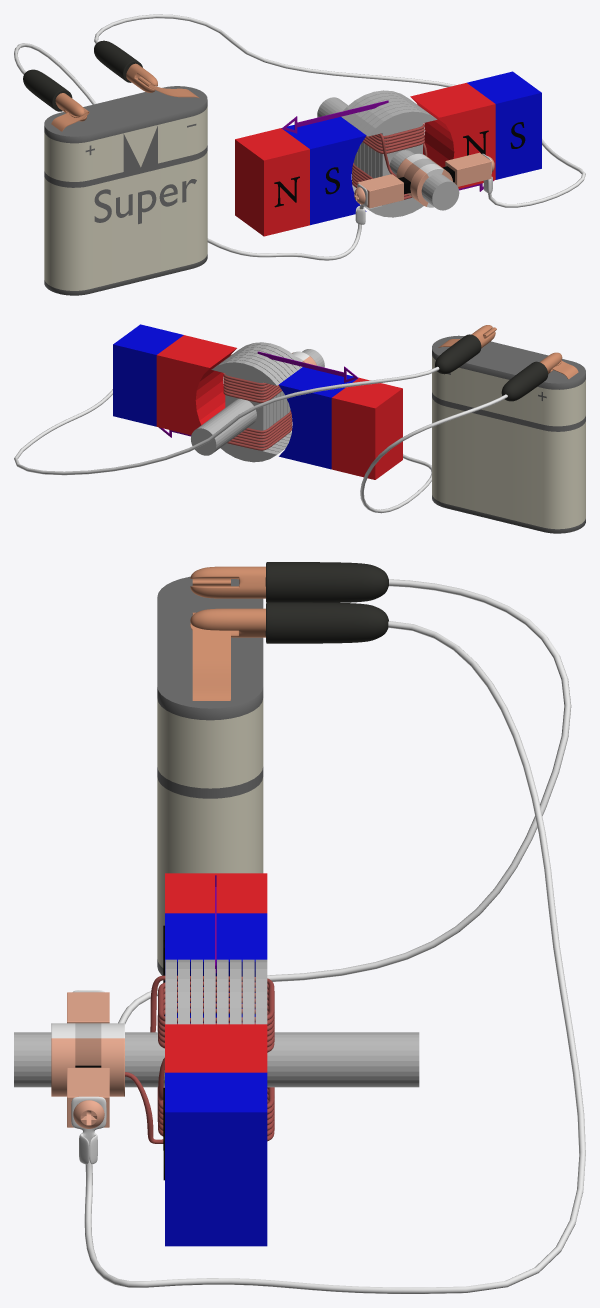
The model's file is Motor.fbx.
3 renders of one model, top to bottom at view 1: azimuth 30°, elevation 25°; view 2: azimuth 150°, elevation 25°; view 3: azimuth 270°, elevation 25°, orthographic. The views are drawn at different scales.
Visible parts, largest first — view 1: battery, magnet1, Cube.001, rootor, juhe.001, klemm.001, klemm, juhe, brushes.002, brushes.001, Plane, brushes; view 2: battery, magnet1, Cube.001, rootor, juhe.001, juhe, klemm.001, klemm; view 3: battery, rootor, Cube.001, juhe.001, magnet1, klemm, klemm.001, juhe, brushes.001, Plane.
Boxes of the visible parts, bbox=[...] form: battery: bbox=[44, 76, 207, 295]; magnet1: bbox=[235, 117, 366, 236]; Cube.001: bbox=[410, 71, 541, 188]; rootor: bbox=[282, 90, 493, 217]; juhe.001: bbox=[94, 14, 585, 207]; klemm.001: bbox=[94, 40, 157, 92]; klemm: bbox=[23, 69, 87, 121]; juhe: bbox=[14, 43, 361, 260]; brushes.002: bbox=[370, 162, 491, 208]; brushes.001: bbox=[357, 152, 491, 208]; Plane: bbox=[355, 153, 492, 224]; brushes: bbox=[354, 156, 494, 204]; battery: bbox=[432, 327, 585, 533]; magnet1: bbox=[279, 367, 402, 479]; Cube.001: bbox=[113, 324, 236, 434]; rootor: bbox=[159, 342, 358, 462]; juhe.001: bbox=[14, 366, 439, 475]; juhe: bbox=[360, 394, 507, 513]; klemm.001: bbox=[435, 325, 495, 374]; klemm: bbox=[501, 352, 562, 401]; battery: bbox=[157, 576, 263, 975]; rootor: bbox=[14, 875, 419, 1143]; Cube.001: bbox=[163, 1024, 267, 1246]; juhe.001: bbox=[84, 621, 585, 1293]; magnet1: bbox=[163, 873, 267, 1023]; klemm: bbox=[190, 562, 388, 602]; klemm.001: bbox=[190, 602, 388, 643]; juhe: bbox=[118, 579, 571, 1023]; brushes.001: bbox=[67, 992, 109, 1127]; Plane: bbox=[71, 990, 106, 1164].
Bounding box in the file's own units: 1020 × 374 × 547.
